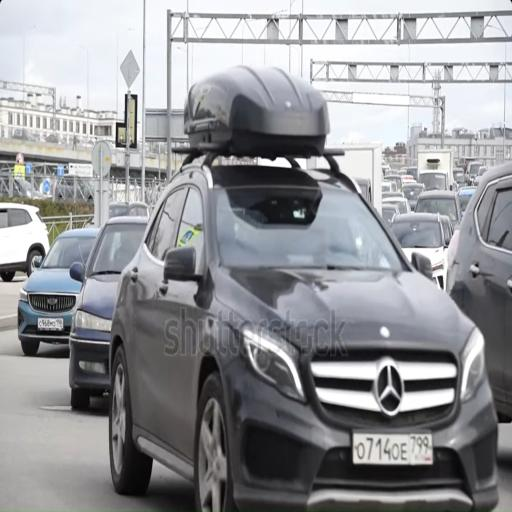License plates: (353, 433, 433, 465), (37, 317, 64, 331)
